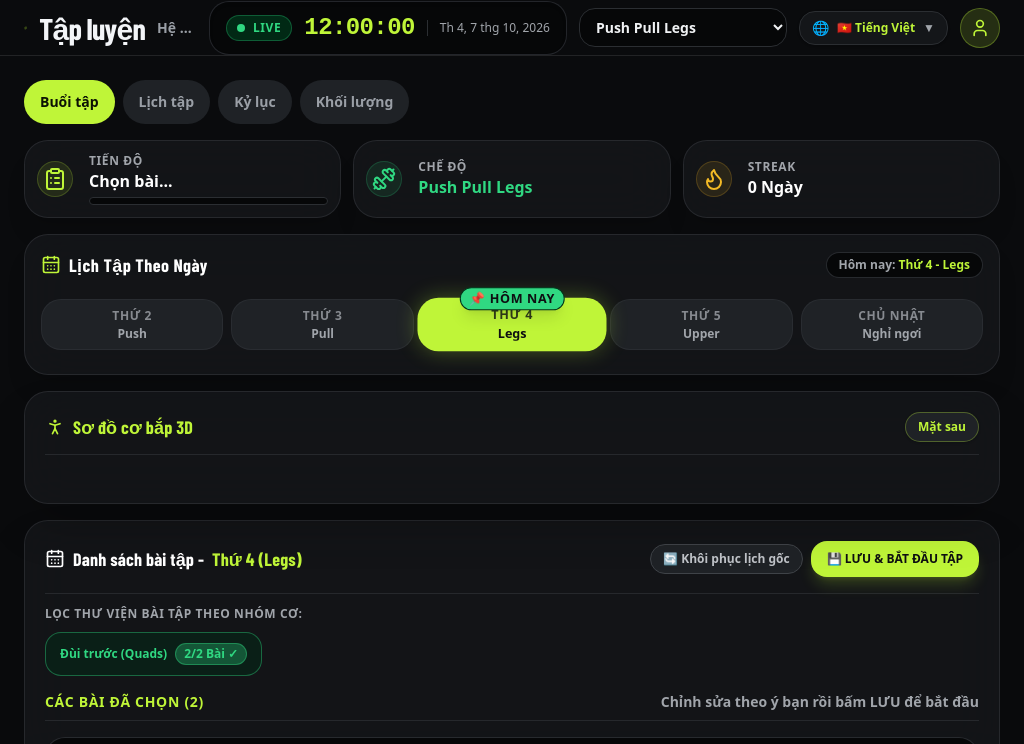
Test: Workouts: loading problems › a day that was loaded, then fails to reload (server hiccup when coming back to its tab) › the old (locked) plan is still visible and the banner explains the day is blocked
The width and height of the screenshot is (1024, 744).
Click the button "💾 LƯU & BẮT ĐẦU TẬP" at (895, 559), box [811,541,979,577]
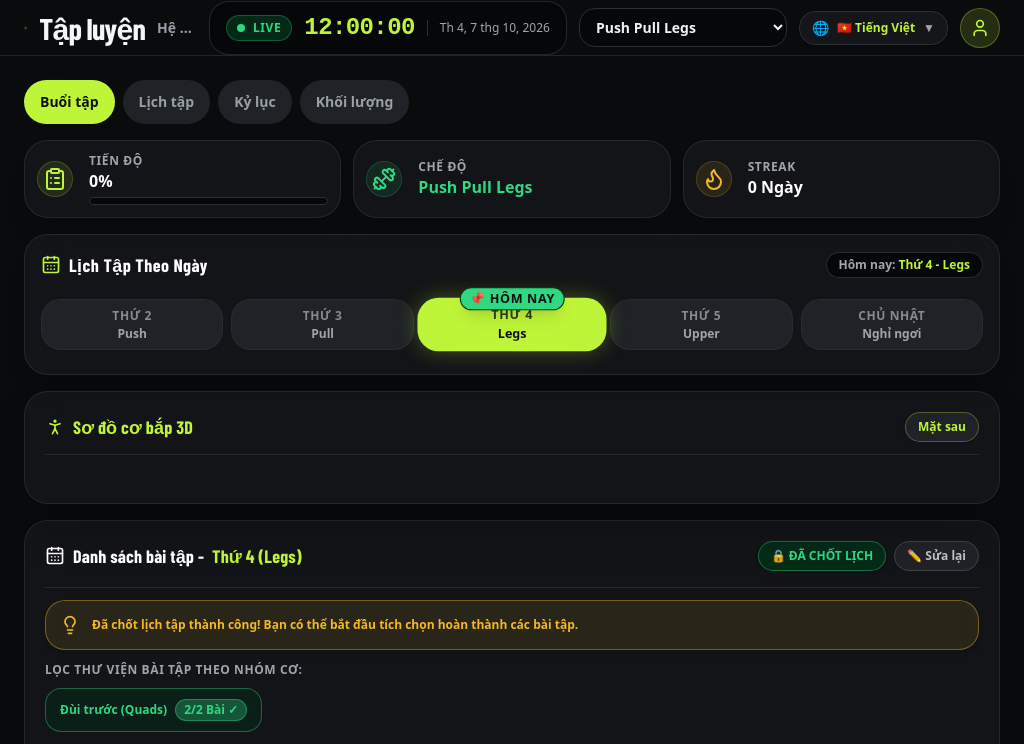
Click the button "Thứ 3 Pull" at (323, 324), box [231,299,414,350]
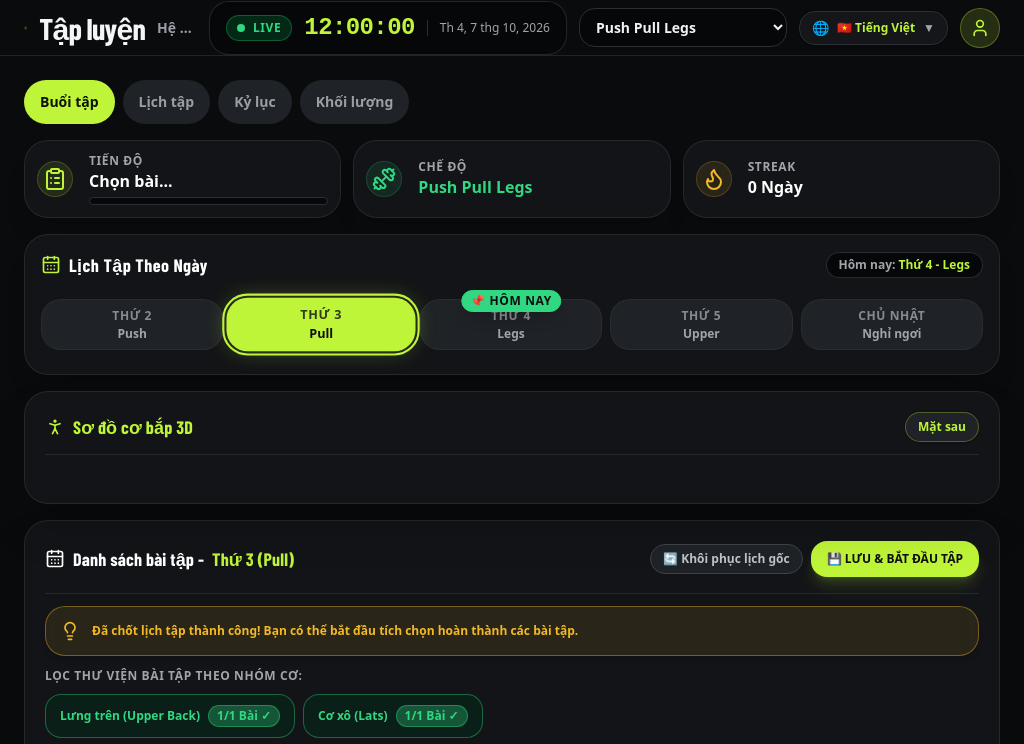
Check: the text "Thứ 3 (Pull)" is shown, box [212,545,294,573]
Click the button "📌 HÔM NAY Thứ 4 Legs" at (511, 324), box [420,299,602,350]
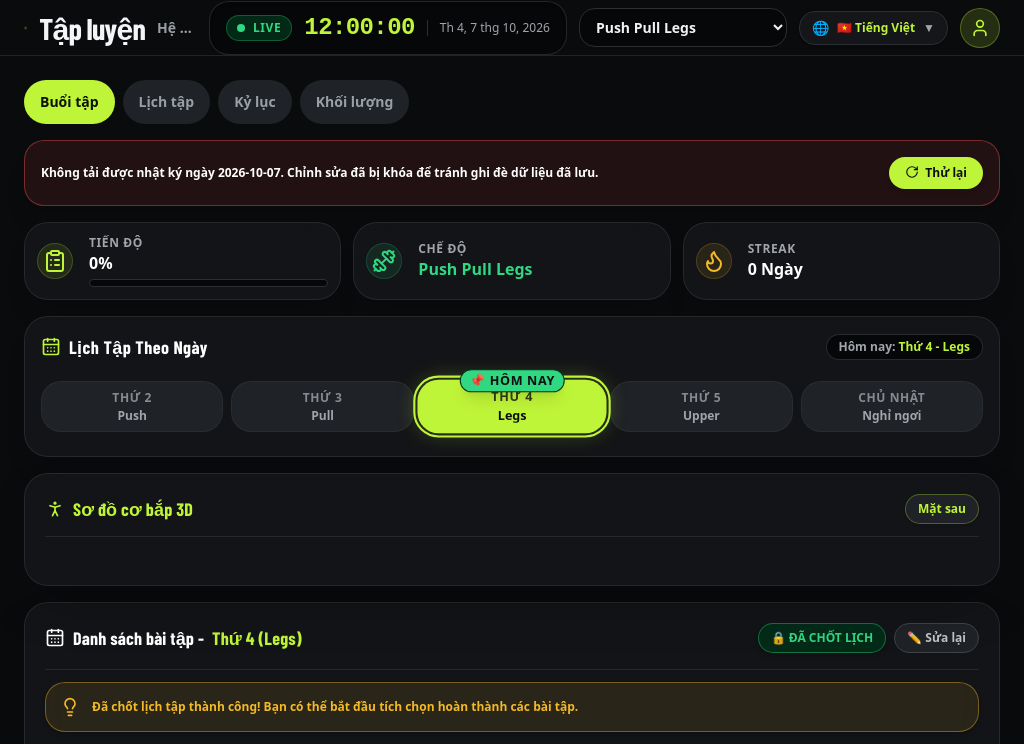
Check: the text "Không tải được nhật ký ngày 2026-10-07" is shown, box [41,165,598,181]
Check: the text "🔒 ĐÃ CHỐT LỊCH" is shown, box [758,623,886,653]
